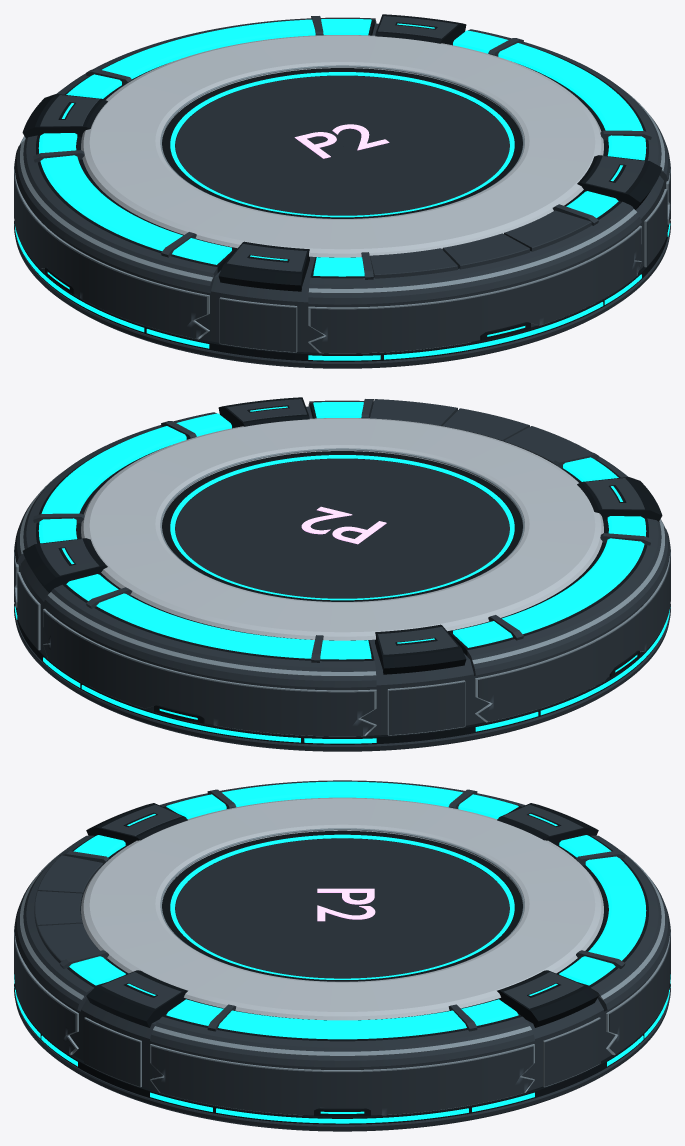
The model's file is Blocker.fbx.
The picture shows the model from 3 angles, top to bottom: view 1: azimuth 30°, elevation 25°; view 2: azimuth 150°, elevation 25°; view 3: azimuth 270°, elevation 25°; orthographic projection.
Parts seen in each view (by area): view 1: SM_Puck_Blocker_P2_HighDetail; view 2: SM_Puck_Blocker_P2_HighDetail; view 3: SM_Puck_Blocker_P2_HighDetail.
Part boxes in pixels (x1,y1,x2,y2): SM_Puck_Blocker_P2_HighDetail: [14, 14, 670, 368]; SM_Puck_Blocker_P2_HighDetail: [14, 397, 670, 751]; SM_Puck_Blocker_P2_HighDetail: [14, 780, 670, 1131].
Size of the model in its own units: 106 by 106 by 16.5.
